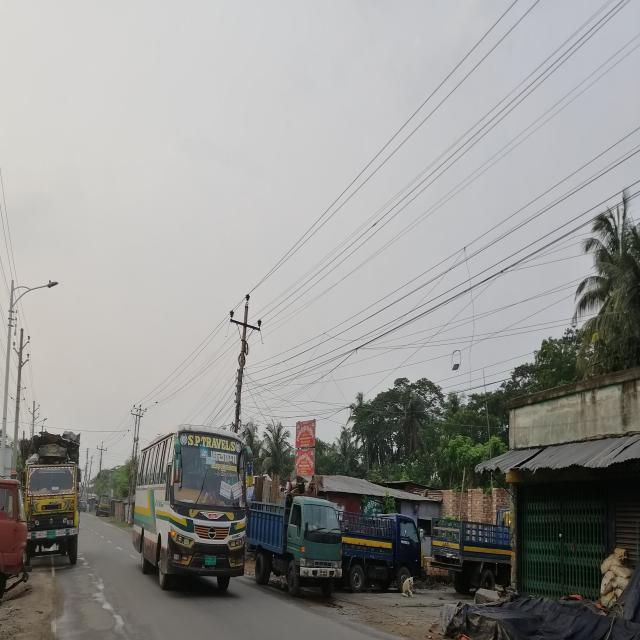Bus: (126, 406, 257, 615)
Pick-up-van: (246, 474, 353, 632), (326, 498, 430, 608), (430, 501, 530, 613)
Truck: (11, 416, 99, 592)
